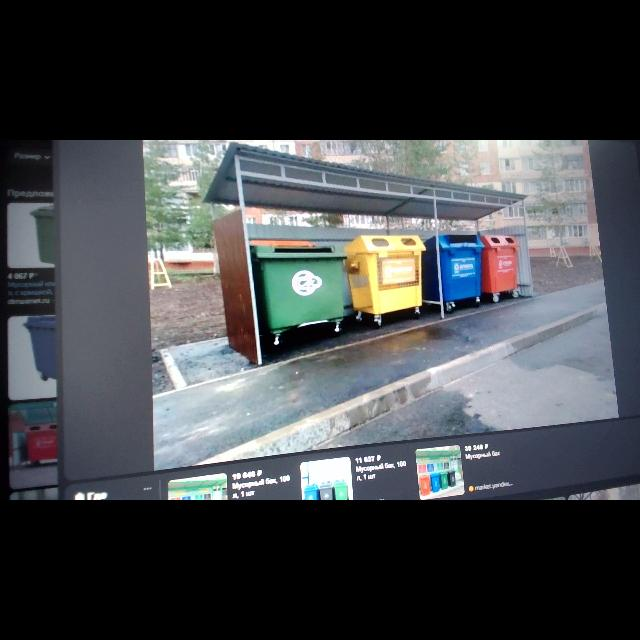Trash_Can_Closed: (345, 234, 427, 314), (422, 234, 484, 302), (481, 234, 520, 292)
Trash_Can_Empty: (251, 245, 348, 334)
